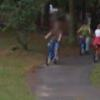bicycles: (42, 38, 60, 66)
